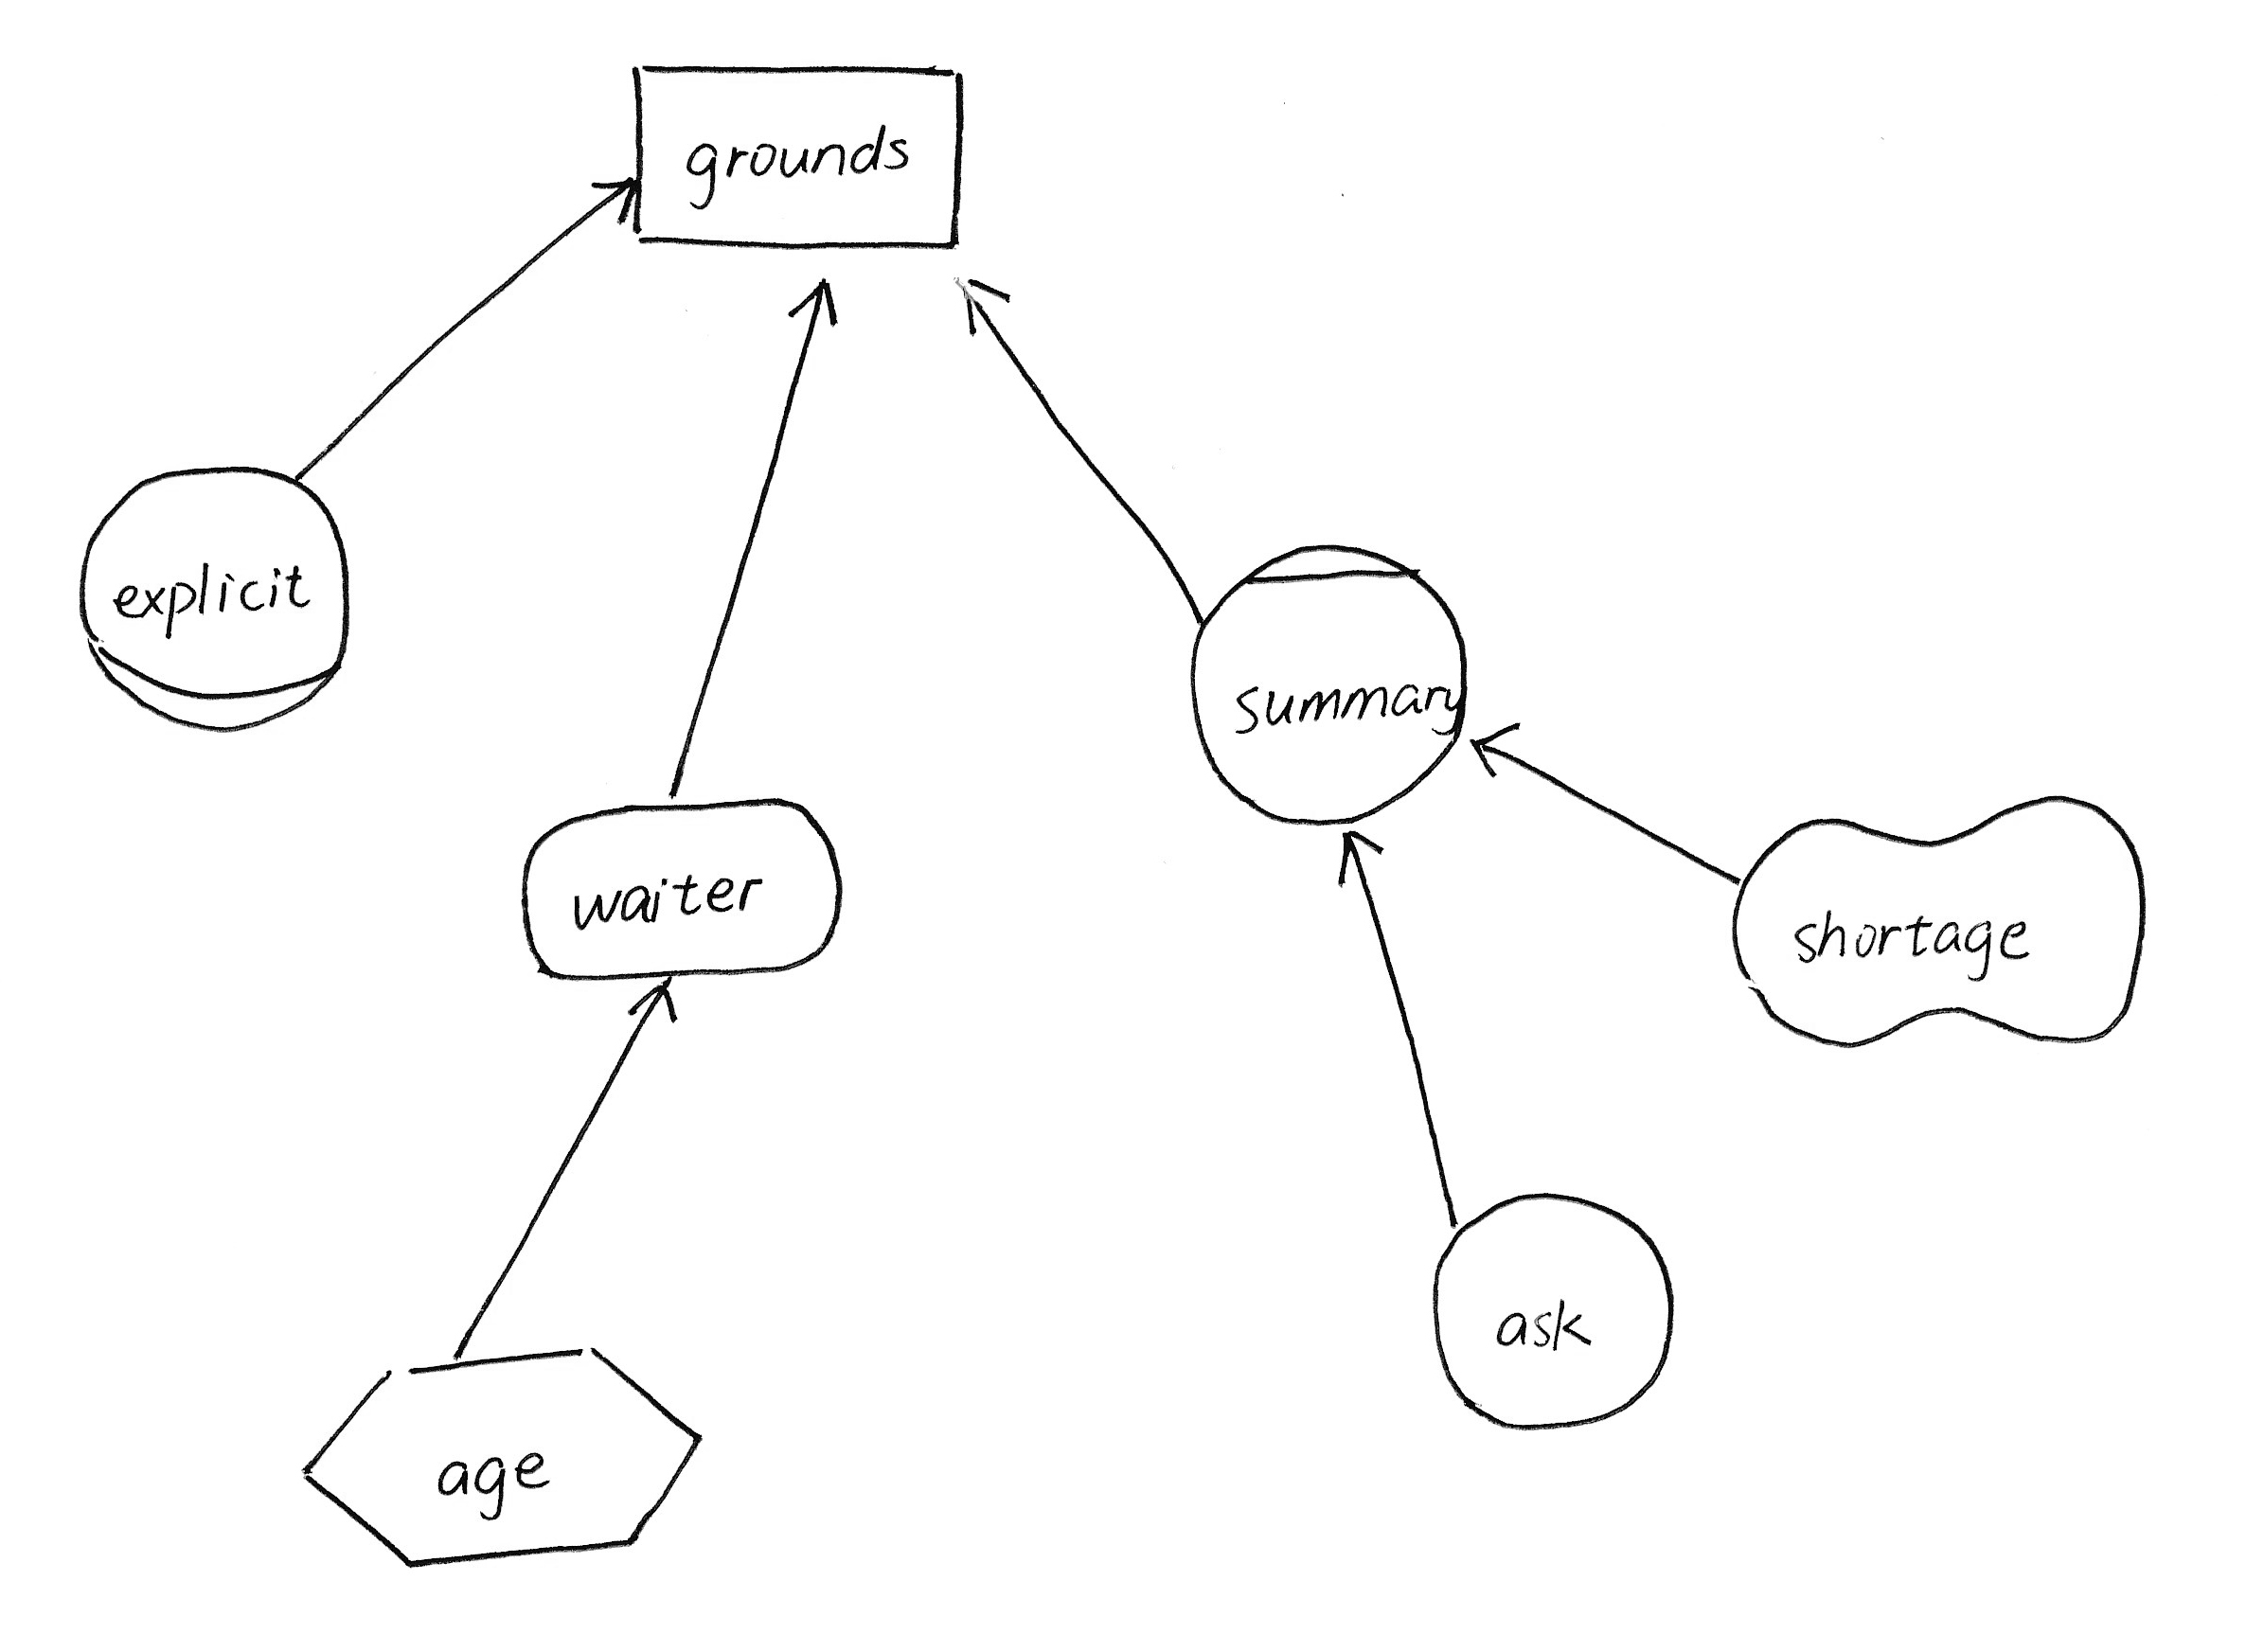actor: (1419, 1178, 1691, 1446)
agent: (1175, 528, 1487, 845)
arrow: (1318, 812, 1402, 897), (940, 260, 1018, 345), (1451, 709, 1538, 784), (582, 155, 656, 244), (781, 261, 851, 340), (614, 967, 694, 1035)
goal: (507, 781, 863, 1002)
quality: (1718, 775, 2171, 1065)
resource: (614, 47, 982, 267)
role: (61, 446, 370, 746)
task: (284, 1326, 718, 1584)
